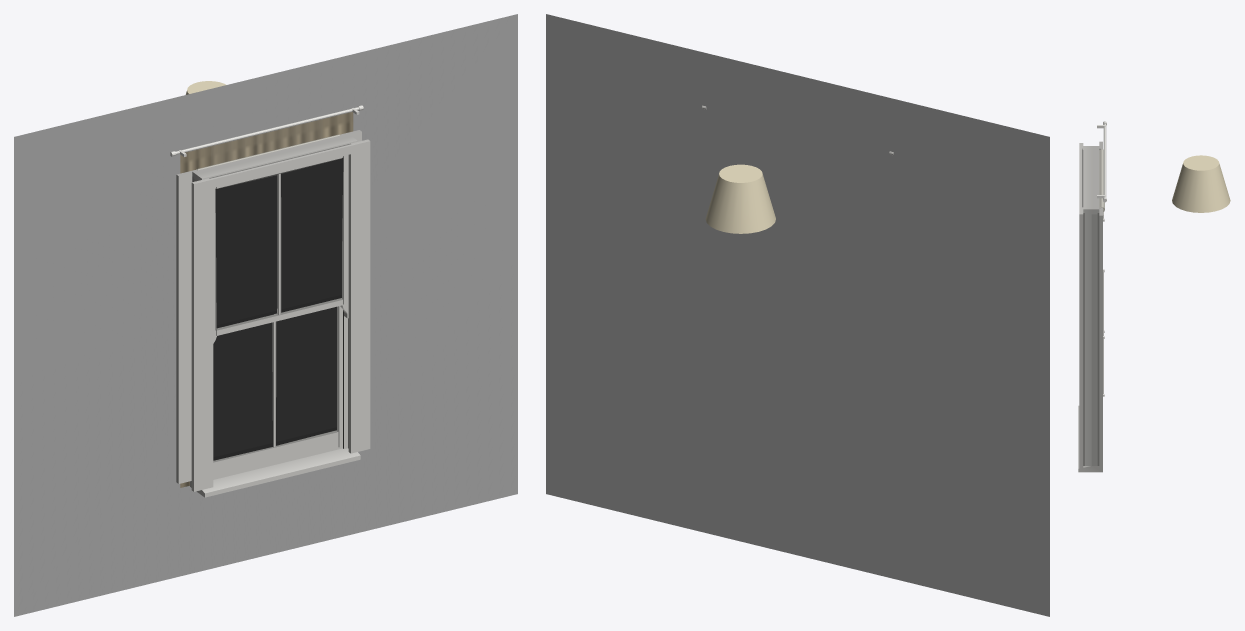
The picture shows the model from 3 angles, left to right: view 1: azimuth 30°, elevation 25°; view 2: azimuth 150°, elevation 25°; view 3: azimuth 270°, elevation 25°; orthographic projection. The views are drawn at different scales.
Visible parts, largest first — view 1: room__card, glass__upper_L, glass__upper_R, glass__lower_R, glass__lower_L, paint_joinery__outer_lining_R, paint_joinery__outer_lining_L, paint_joinery__inner_lining_L, curtain__C1_drawn, paint_joinery__oak_sill, paint_joinery__lower_bottom_rail, paint_joinery__head_outer_lining (+4 smaller); view 2: room__card, pendant__shade; view 3: paint_joinery__pulley_stile_R, pendant__shade, paint_joinery__outer_lining_R, paint_joinery__head_lining, paint_joinery__inner_lining_R, paint_joinery__head_outer_lining, blind_roller__B2, curtain_pole, paint_joinery__oak_sill.
Boxes of the visible parts, x1,y1,x2,y2 form: room__card: (14,14,517,616); glass__upper_L: (215,175,277,328); glass__upper_R: (281,157,343,312); glass__lower_R: (276,306,337,445); glass__lower_L: (213,322,272,460); paint_joinery__outer_lining_R: (348,140,370,453); paint_joinery__outer_lining_L: (191,178,213,491); paint_joinery__inner_lining_L: (176,170,196,483); curtain__C1_drawn: (180,112,353,487); paint_joinery__oak_sill: (190,446,360,497); paint_joinery__lower_bottom_rail: (213,432,337,479); paint_joinery__head_outer_lining: (191,139,370,192); room__card: (546,14,1049,616); pendant__shade: (705,164,775,233); paint_joinery__pulley_stile_R: (1083,214,1099,465); pendant__shade: (1172,155,1230,212); paint_joinery__outer_lining_R: (1079,207,1083,469); paint_joinery__head_lining: (1083,146,1099,214); paint_joinery__inner_lining_R: (1099,208,1102,471); paint_joinery__head_outer_lining: (1079,144,1083,221); blind_roller__B2: (1099,149,1104,211); curtain_pole: (1103,123,1106,197); paint_joinery__oak_sill: (1078,405,1102,472).
Size of the model in its own units: 2.8 by 2.55 by 0.8817.
7 materials, 3 textured.
